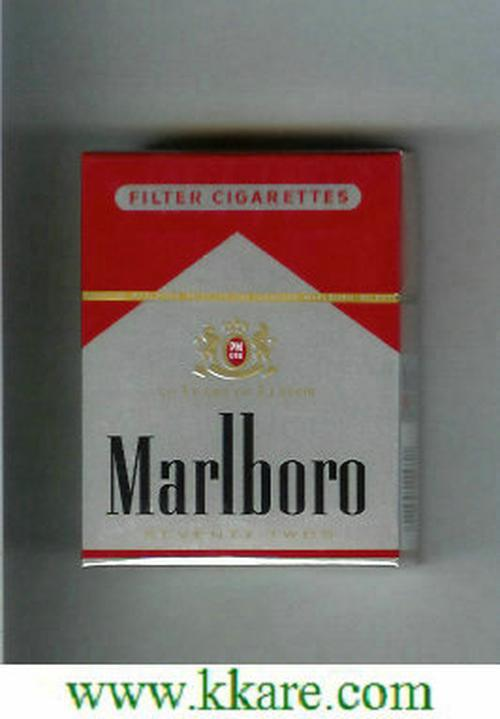marlboro: (85, 158, 403, 568)
